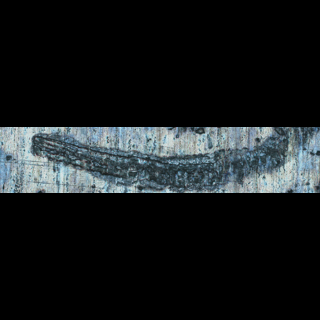d: (27, 129, 313, 193)
